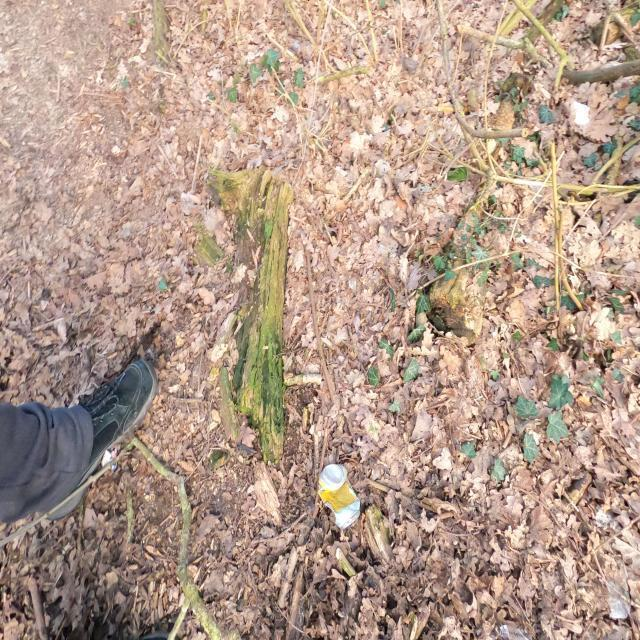Can-Metal: (318, 464, 360, 530)
Plastic: (100, 446, 118, 472)
